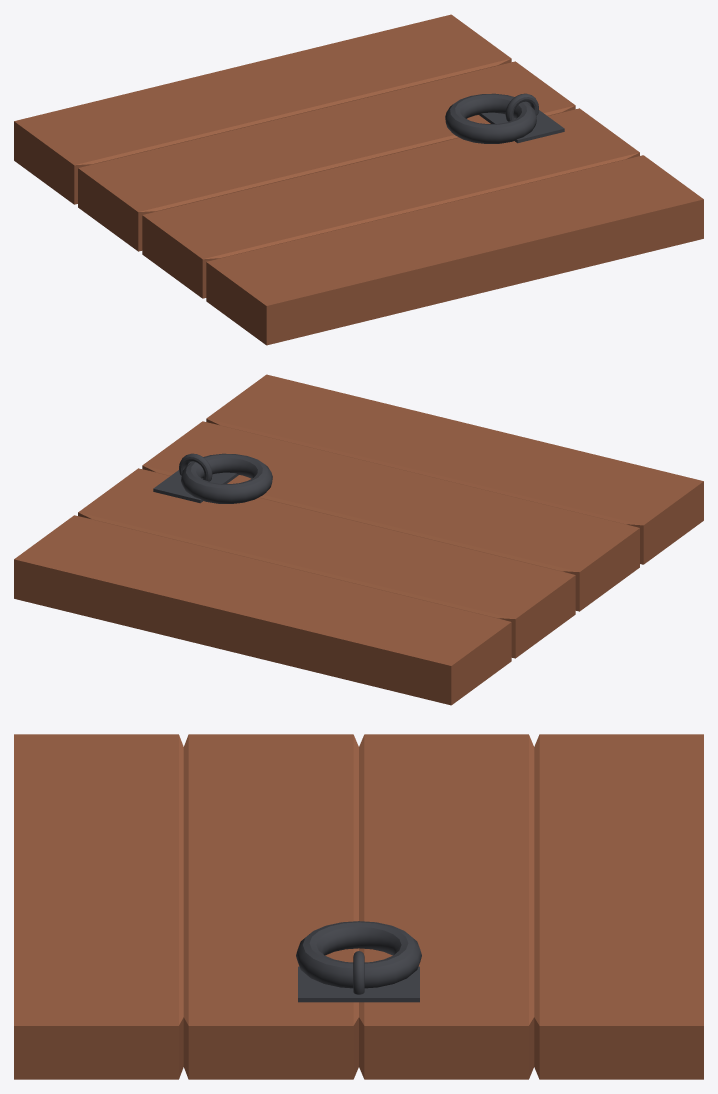
The model's file is Falltür_Einzelobjekt.fbx.
3 views of the same model, one above another, from view 1: azimuth 30°, elevation 25°; view 2: azimuth 150°, elevation 25°; view 3: azimuth 270°, elevation 25° (orthographic). The views are drawn at different scales.
Parts seen in each view (by area): view 1: Cube.029; view 2: Cube.029; view 3: Cube.029.
Boxes of the visible parts, x1,y1,x2,y2 form: Cube.029: (14,14,703,345); Cube.029: (14,374,703,705); Cube.029: (14,734,703,1079).
Bounding box in the file's own units: 73.83 × 10.58 × 73.83.
